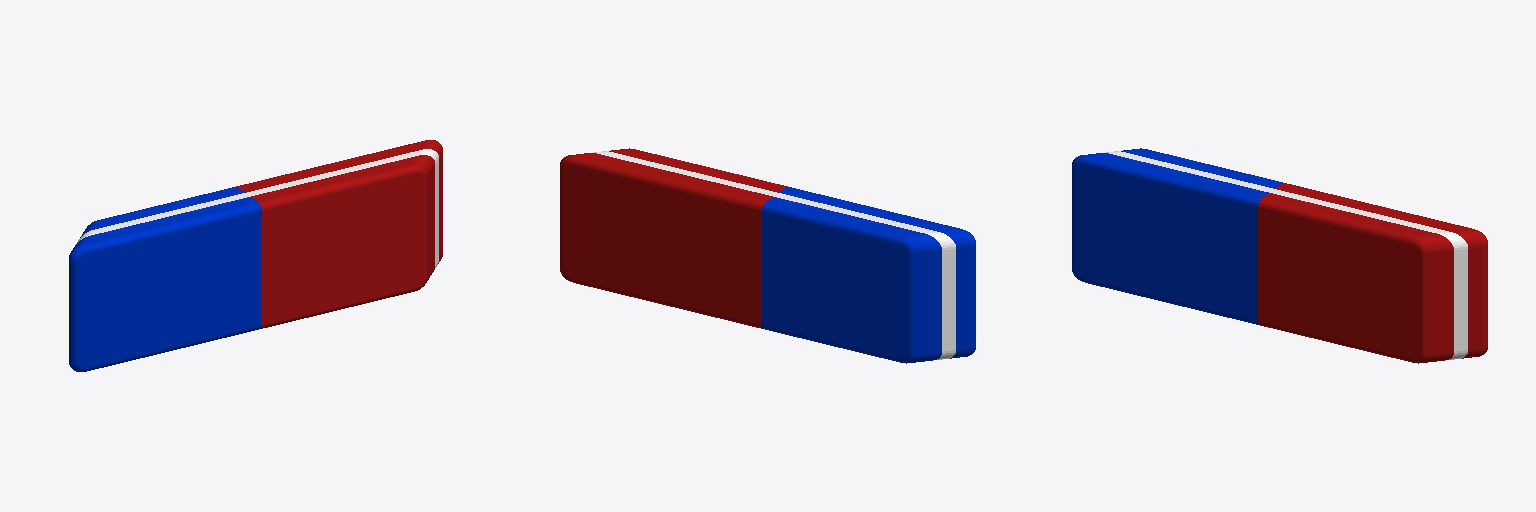
Rendered from eraser.obj.
3 views of the same model, side by side, from view 1: azimuth 30°, elevation 25°; view 2: azimuth 150°, elevation 25°; view 3: azimuth 330°, elevation 25° (orthographic).
Visible parts, largest first — view 1: NONE_DC_Shell; view 2: NONE_DC_Shell; view 3: NONE_DC_Shell.
Boxes of the visible parts, x1,y1,x2,y2 form: NONE_DC_Shell: [69, 140, 442, 371]; NONE_DC_Shell: [560, 148, 975, 363]; NONE_DC_Shell: [1072, 148, 1487, 363].
Size of the model in its own units: 652 by 200 by 80.